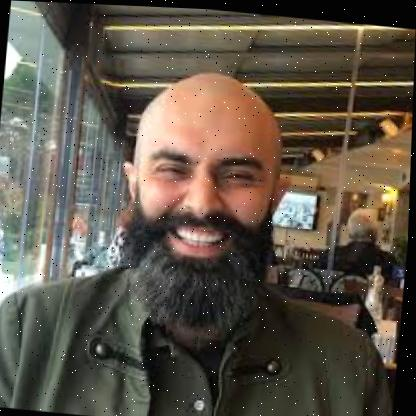person: (101, 58, 299, 341)
